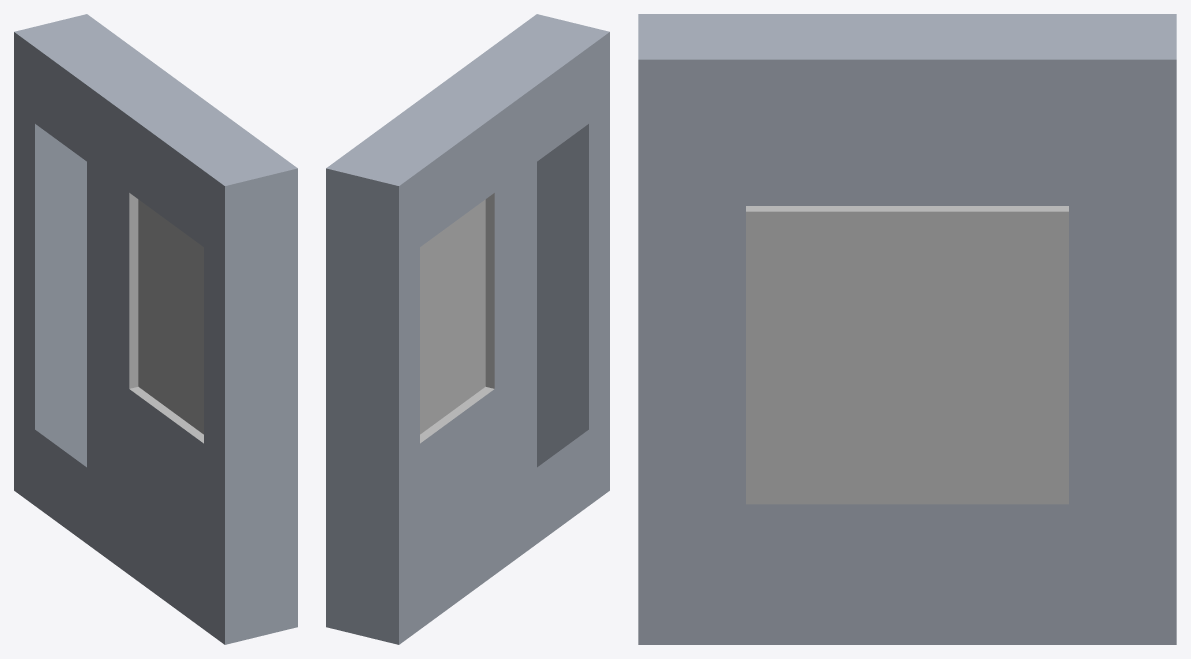
File: cell_37.obj
3 views of the same model, side by side, from view 1: azimuth 30°, elevation 25°; view 2: azimuth 150°, elevation 25°; view 3: azimuth 270°, elevation 25° (orthographic). The views are drawn at different scales.
Bounding box in the file's own units: 0.1406 × 0.75 × 0.625.
